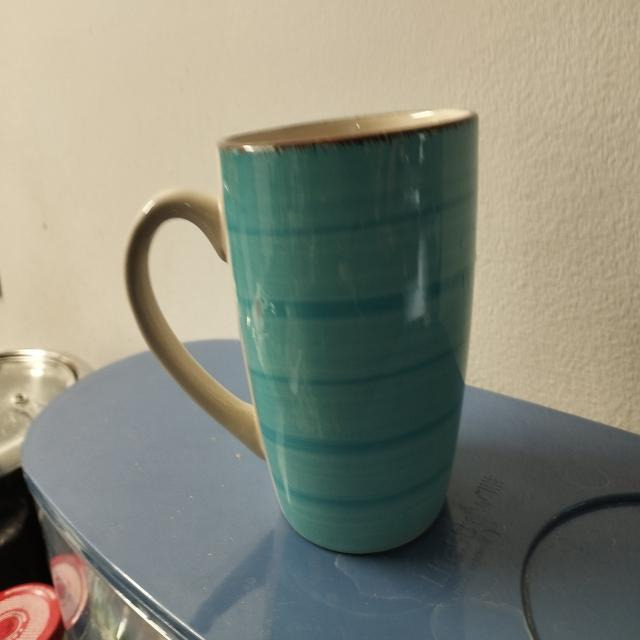Cup: (95, 97, 554, 578)
